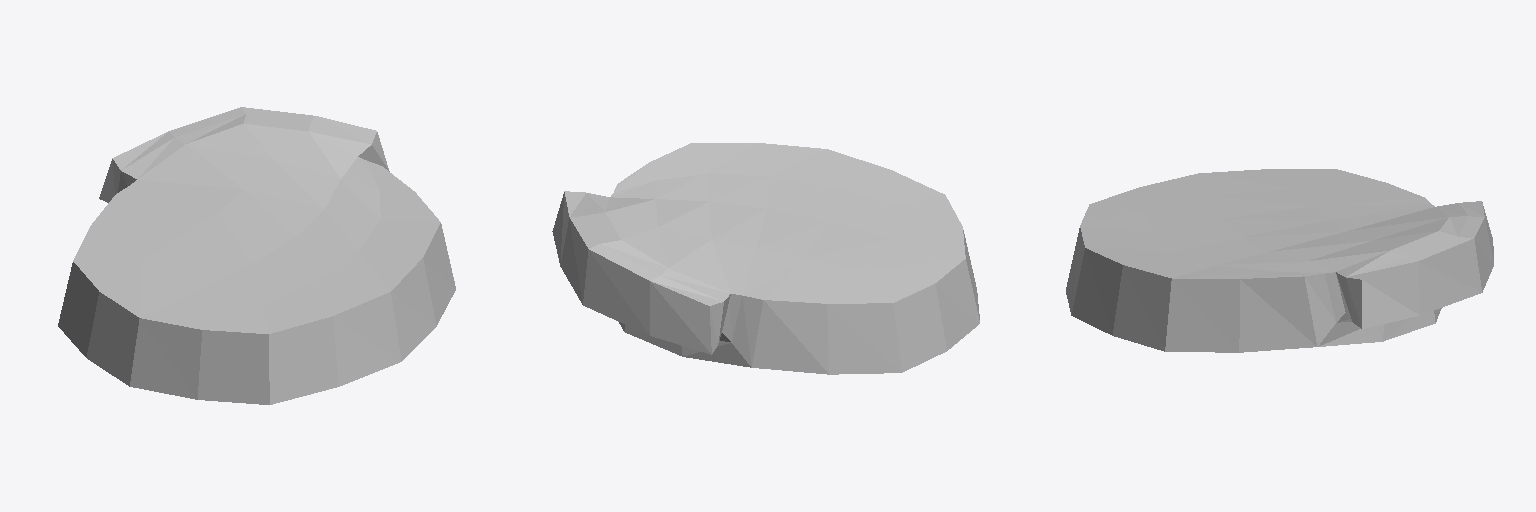
The model's file is slice_11.obj.
3 renders of one model, left to right at view 1: azimuth 30°, elevation 25°; view 2: azimuth 150°, elevation 25°; view 3: azimuth 270°, elevation 25°, orthographic.
Visible parts, largest first — view 1: Mushroom.012_Cube.021; view 2: Mushroom.012_Cube.021; view 3: Mushroom.012_Cube.021.
Boxes of the visible parts, box(x1,y1,x2,y2) form: Mushroom.012_Cube.021: box(58, 107, 455, 404); Mushroom.012_Cube.021: box(552, 143, 979, 374); Mushroom.012_Cube.021: box(1066, 169, 1493, 352).
Size of the model in its own units: 0.737 by 0.2336 by 0.7837.